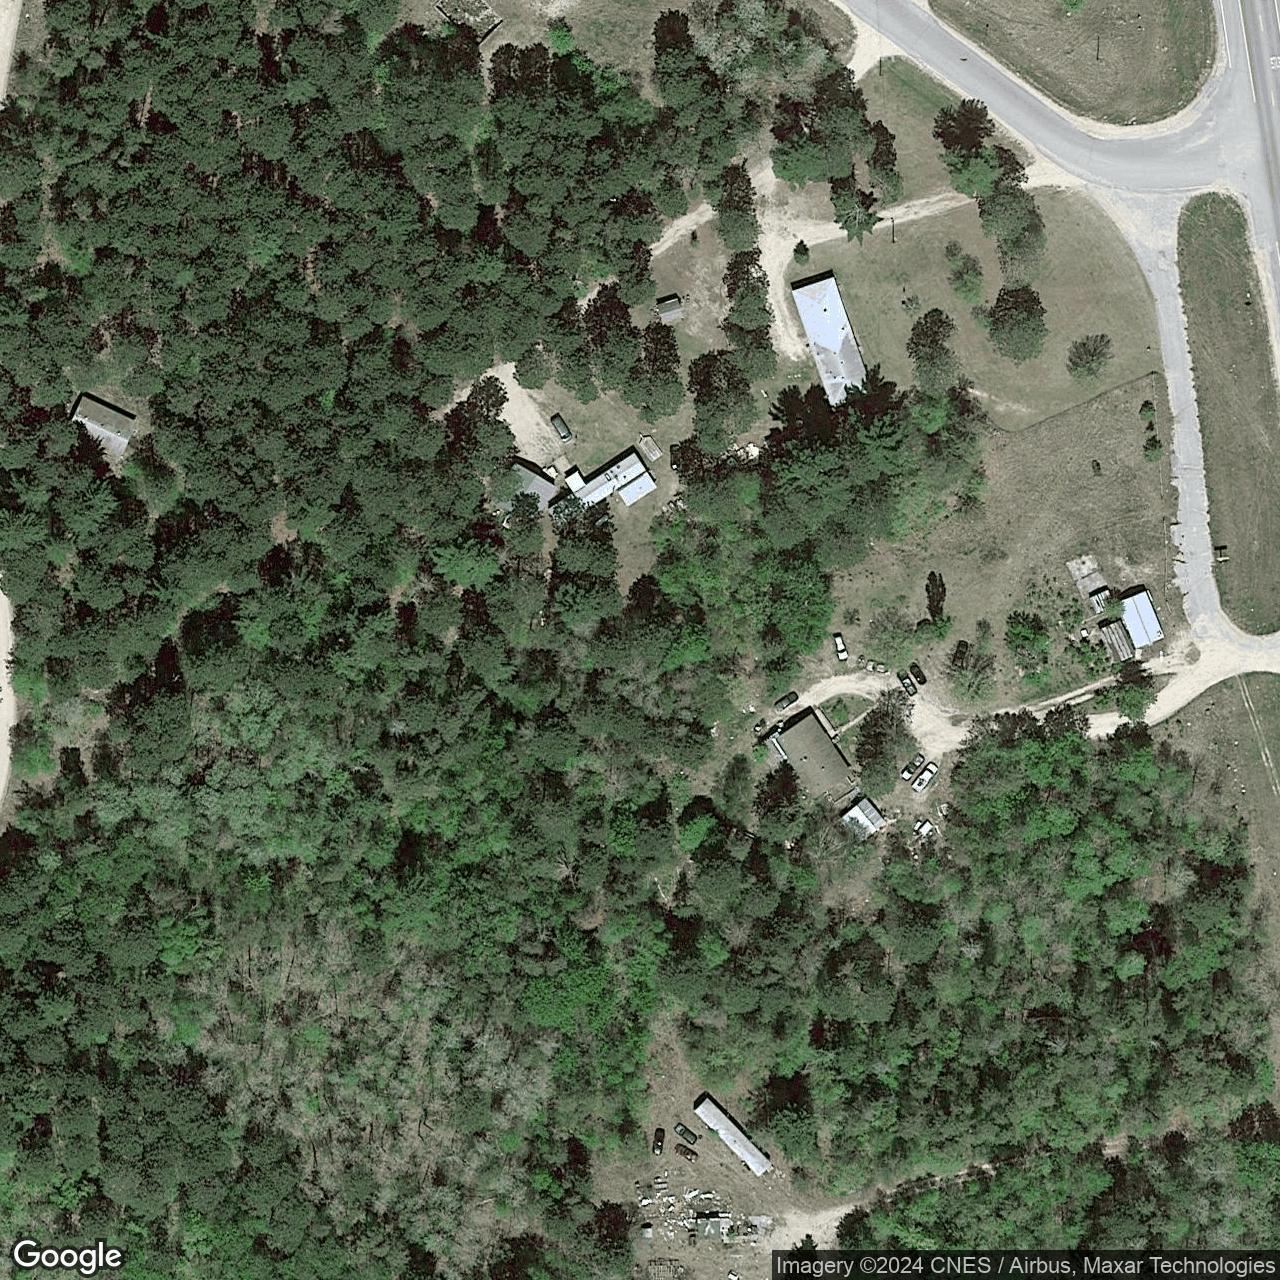Garage: (488, 461, 557, 525)
House: (789, 274, 876, 409), (775, 712, 852, 801), (63, 393, 137, 463)
Trailer: (545, 451, 658, 530), (692, 1097, 774, 1178)
